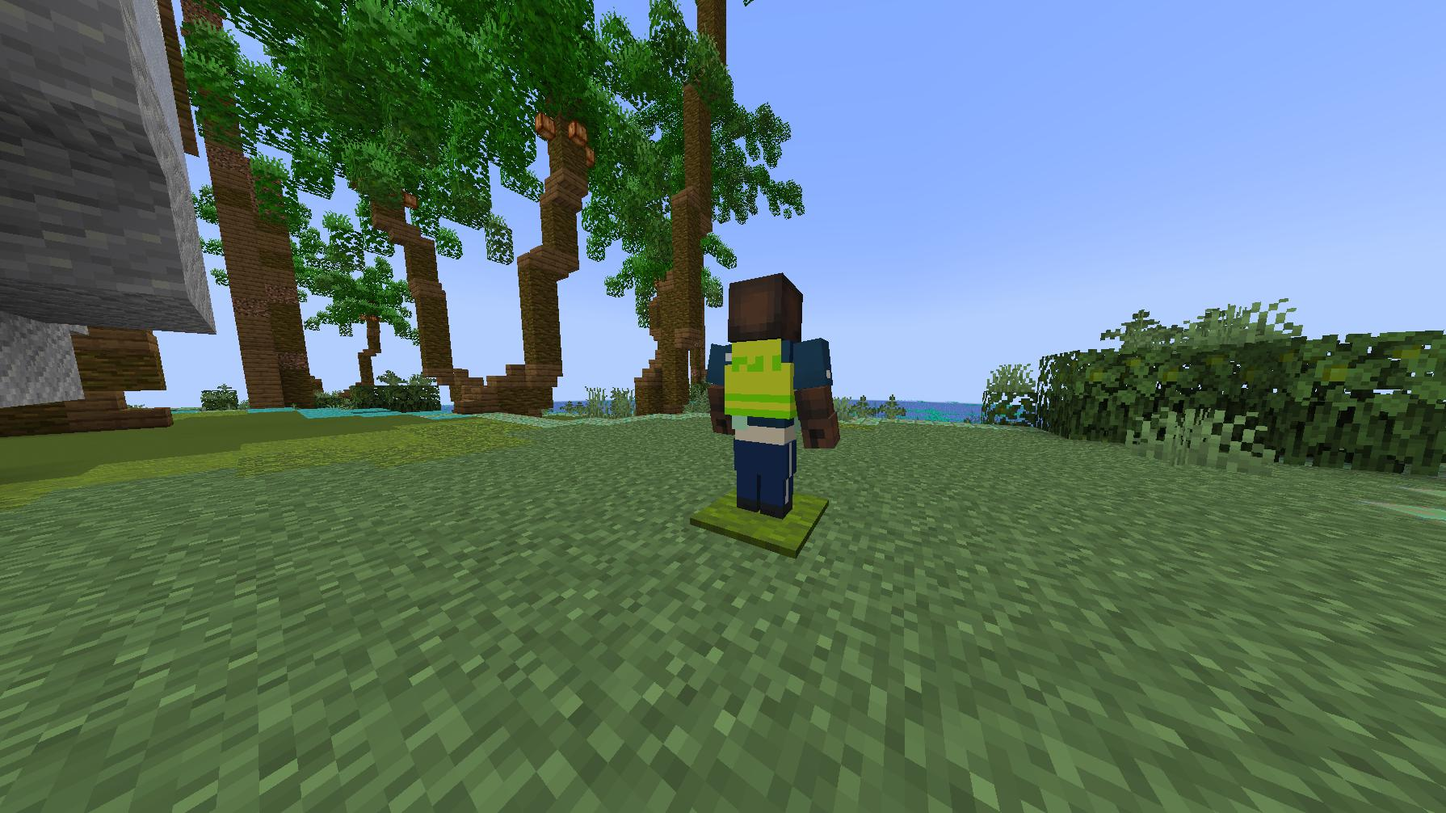Guardian: (707, 274, 839, 519)
